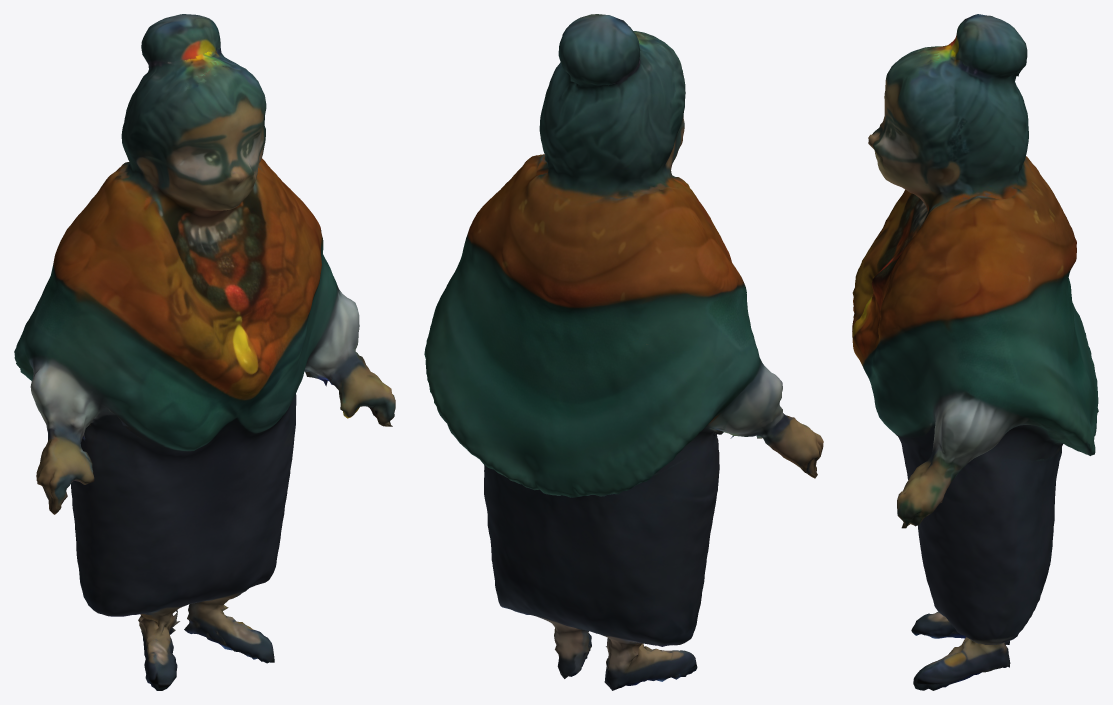
File: MILDRED_0712004310.fbx
The picture shows the model from 3 angles, left to right: view 1: azimuth 30°, elevation 25°; view 2: azimuth 150°, elevation 25°; view 3: azimuth 270°, elevation 25°; orthographic projection. The views are drawn at different scales.
Parts seen in each view (by area): view 1: Mesh_0; view 2: Mesh_0; view 3: Mesh_0.
Part boxes in pixels (bbox=[...]): Mesh_0: bbox=[14, 14, 395, 690]; Mesh_0: bbox=[424, 14, 823, 690]; Mesh_0: bbox=[852, 14, 1098, 690].
Bounding box in the file's own units: 69.96 × 120 × 41.79.
1 material, 1 textured.
